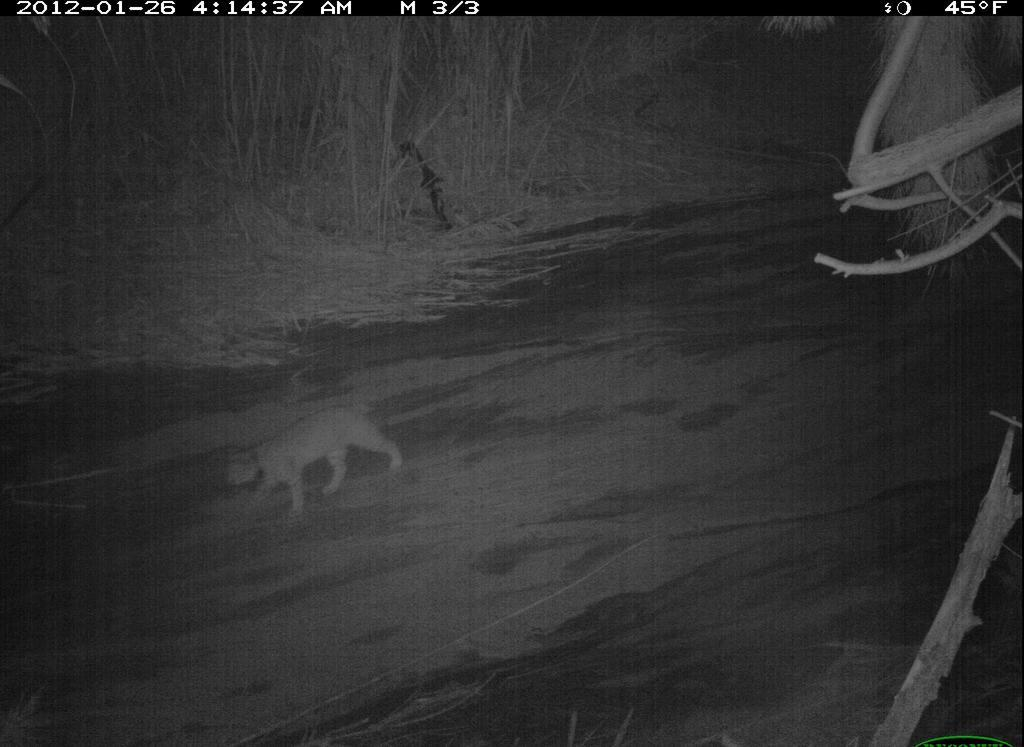bobcat: (216, 400, 415, 536)
